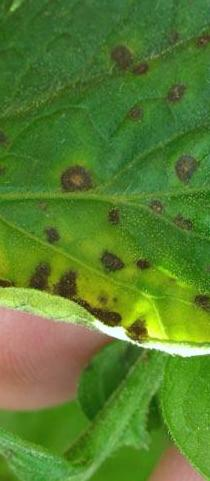Tomato Septoria leaf spot: (0, 0, 210, 351)
